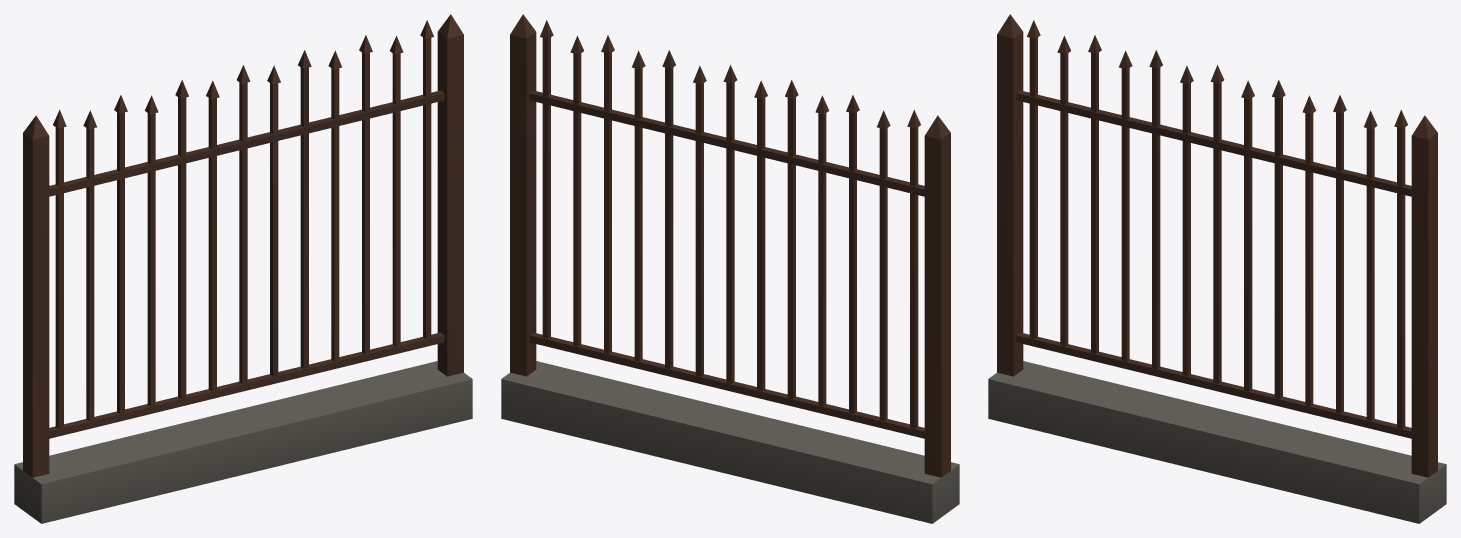
The model's file is fence.iron.rusty.glb.
3 renders of one model, left to right at view 1: azimuth 30°, elevation 25°; view 2: azimuth 150°, elevation 25°; view 3: azimuth 330°, elevation 25°, orthographic.
Visible parts, largest first — view 1: fence_iron_rusty; view 2: fence_iron_rusty; view 3: fence_iron_rusty.
Boxes of the visible parts, left/top/right/bottom form: fence_iron_rusty: left=14, top=14, right=472, bottom=523; fence_iron_rusty: left=501, top=14, right=959, bottom=523; fence_iron_rusty: left=988, top=14, right=1446, bottom=523.
Size of what is drawn, in the model's own units: 1.82 by 1.6 by 0.2.
